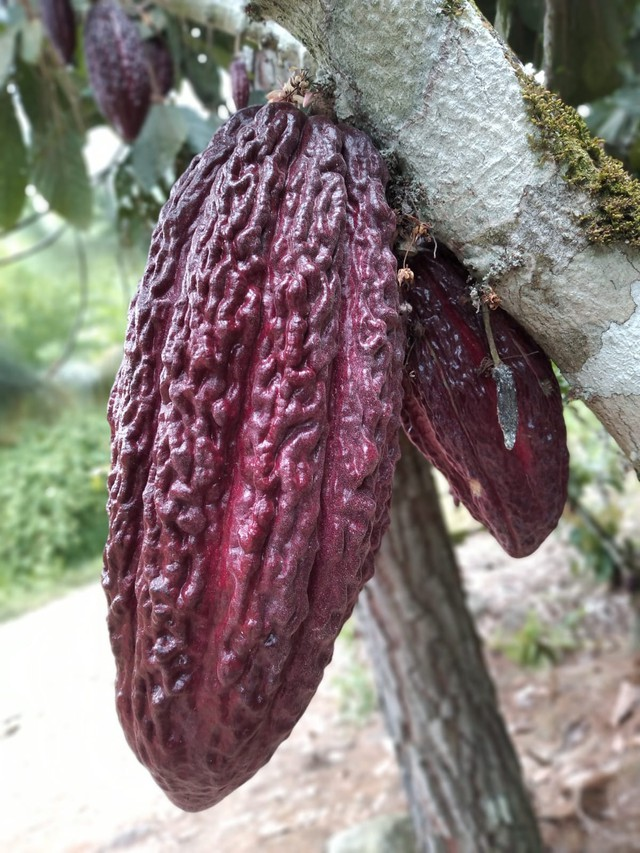Health: (85, 69, 436, 830)
